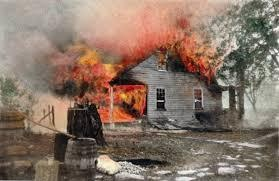fire: (53, 43, 148, 121)
